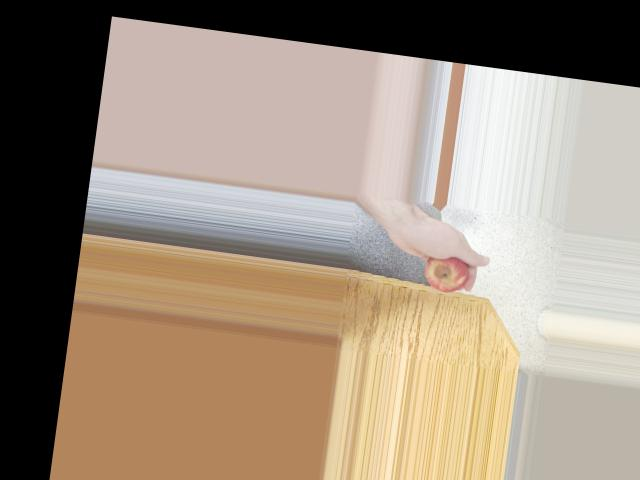apple: (411, 246, 474, 296)
